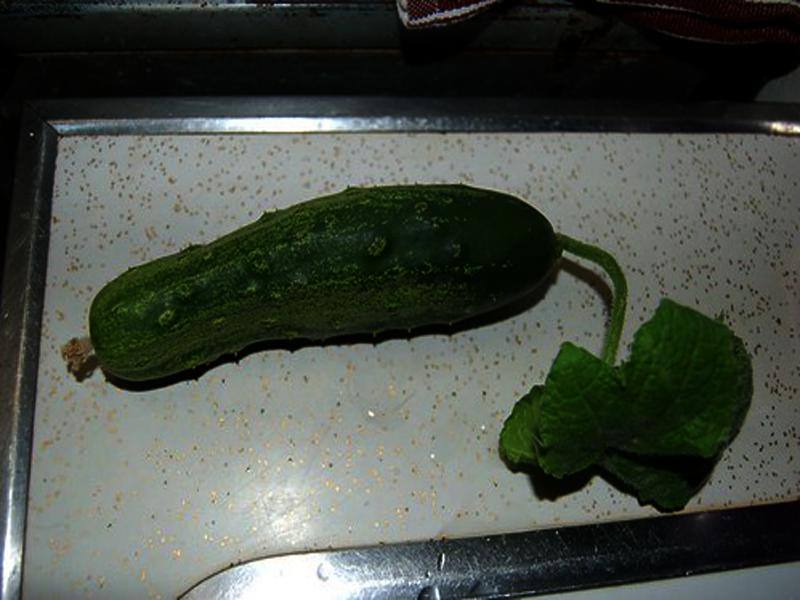Cucumber: (61, 183, 563, 385)
